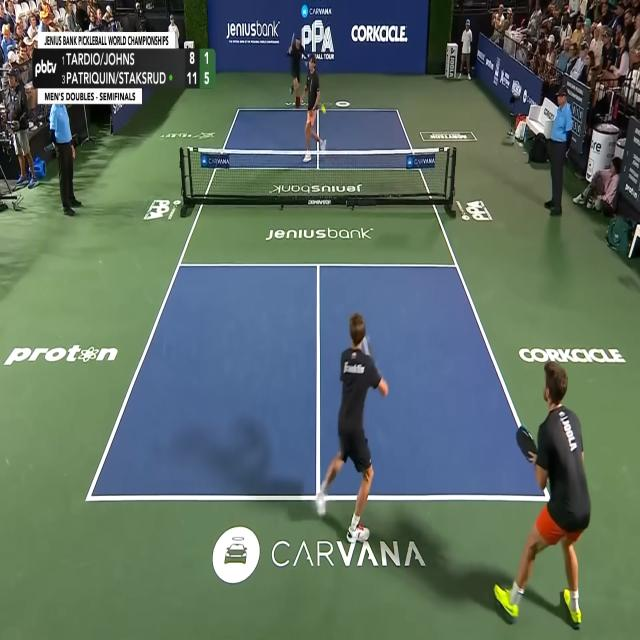ball: (321, 104, 326, 114)
